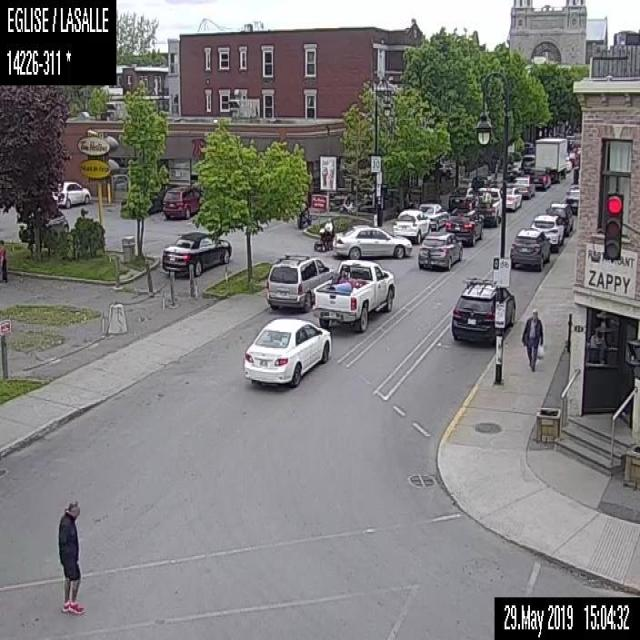pedestrian: (56, 500, 84, 615), (520, 309, 545, 372), (314, 216, 332, 250), (0, 235, 8, 285)
vehicle: (242, 316, 331, 387), (312, 257, 393, 332), (263, 250, 333, 312), (449, 279, 515, 343), (157, 230, 232, 276), (333, 220, 412, 259), (508, 228, 551, 270), (417, 230, 461, 270), (532, 135, 567, 180), (162, 182, 201, 218), (446, 206, 481, 245), (530, 211, 564, 250), (392, 208, 428, 240), (473, 187, 501, 224), (54, 181, 90, 209), (122, 190, 162, 212), (420, 201, 447, 228), (548, 202, 572, 232), (448, 184, 477, 208), (513, 174, 534, 198), (528, 166, 550, 188), (506, 186, 521, 213), (566, 183, 579, 212), (297, 202, 311, 228), (506, 161, 524, 181), (520, 154, 534, 174)
